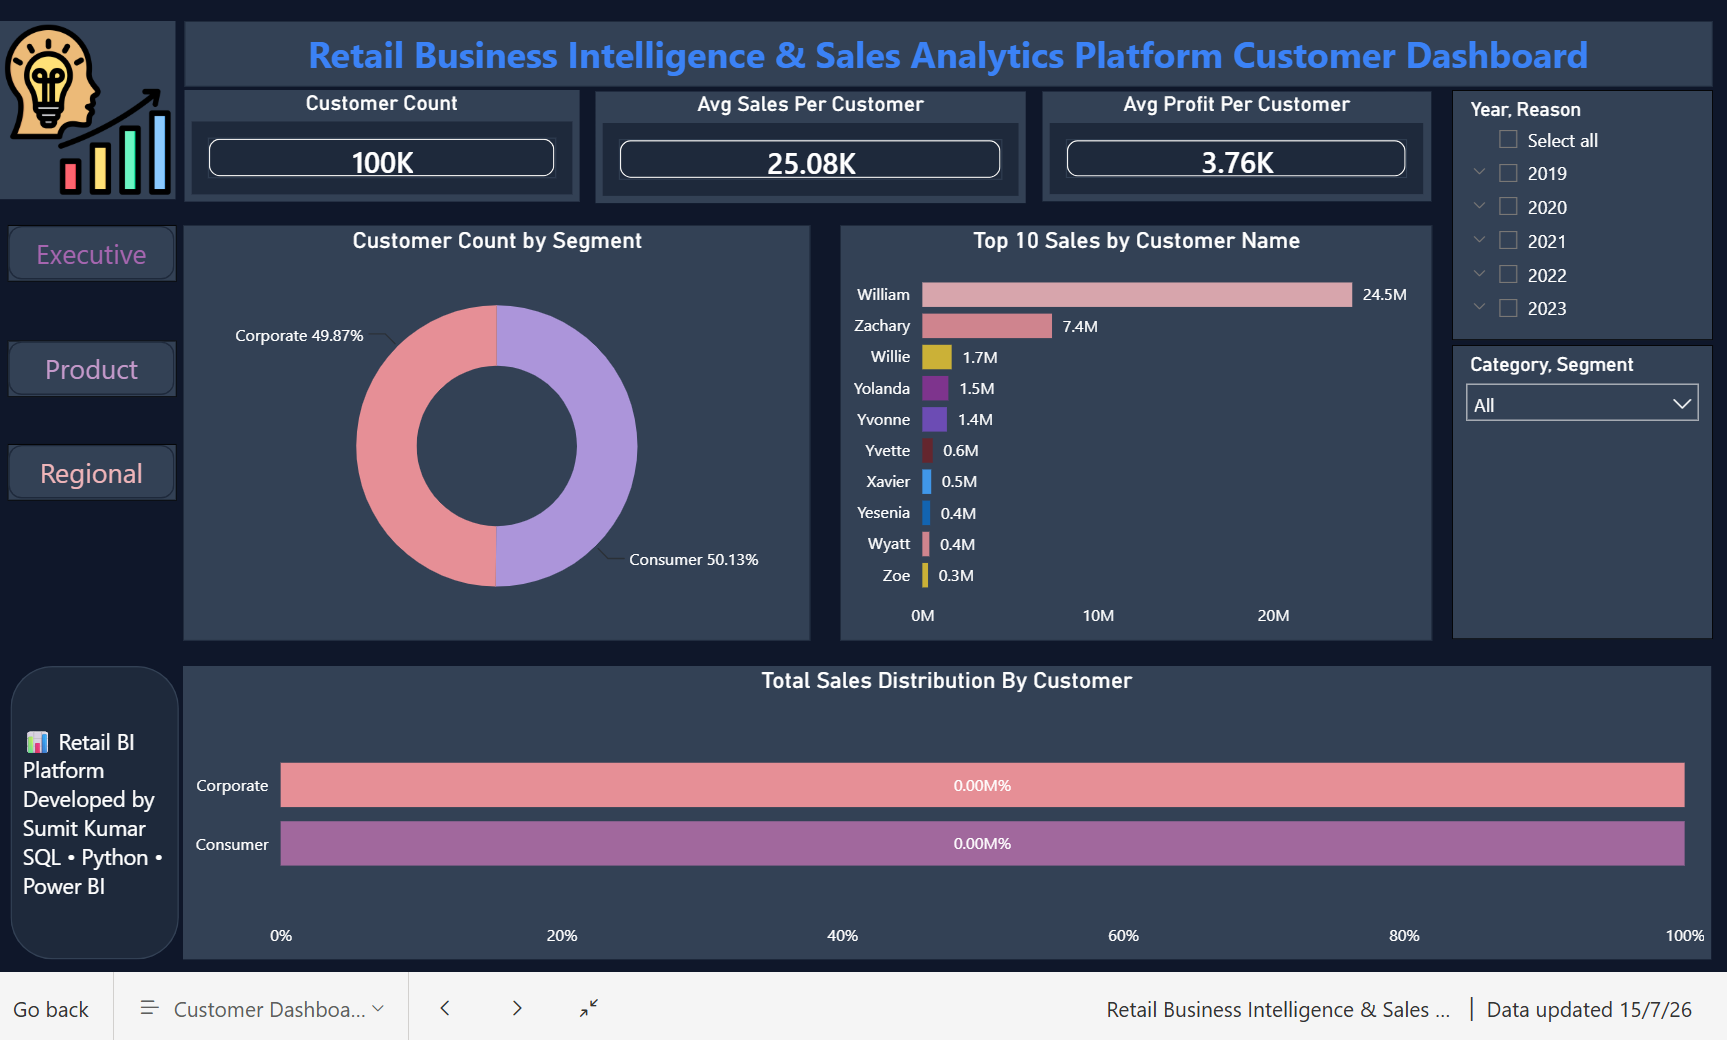

The dashboard page shown, as its layout file describes it:
{"tool":"powerbi","page":{"name":"Customer Dashboard","canvas":[1280,720],"ordinal":1},"visuals":[{"type":"cardVisual","title":"Customer Count","fields":{"Data":["cleaned_data.Customer Count"]},"box":[136.6,66.7,292.8,83],"z":0},{"type":"cardVisual","title":"Avg Profit Per Customer","fields":{"Data":["cleaned_data.Average Profit per Customer"]},"box":[772.6,68.3,287.9,81.3],"z":1000},{"type":"cardVisual","title":"Avg Sales Per Customer","fields":{"Data":["cleaned_data.Average Sales per Customer"]},"box":[440.8,68.3,318.8,83],"z":2000},{"type":"slicer","fields":{"Values":["cleaned_data.Year","cleaned_data.Region"]},"box":[1075,66.7,193.3,185],"z":3000},{"type":"slicer","fields":{"Values":["cleaned_data.Category of Goods","cleaned_data.Segment"]},"box":[1075.1,255.4,193.6,218],"z":4000},{"type":"textbox","box":[136.7,15,1131.7,48.3],"z":5000},{"type":"image","box":[0,15,130,131.7],"z":6000},{"type":"shape","box":[5,251.7,125,41.7],"z":7000},{"type":"shape","box":[5,328.3,125,41.7],"z":8000},{"type":"shape","box":[5,166.7,125,41.7],"z":9000},{"type":"shape","box":[7.6,493.2,124.7,217.3],"z":10000},{"type":"donutChart","fields":{"Category":["cleaned_data.Segment"],"Y":["cleaned_data.Customer Count"]},"box":[136.1,166.3,464.9,308],"z":11000},{"type":"clusteredBarChart","title":"Top 10 Sales by Customer Name","fields":{"Category":["cleaned_data.Customer Name"],"Y":["cleaned_data.Total Sales"]},"box":[621.7,166.3,438.4,308],"z":12000},{"type":"hundredPercentStackedBarChart","title":"Total Sales Distribution By Customer ","fields":{"Category":["cleaned_data.Segment"],"Y":["cleaned_data.Total Sales"]},"box":[136.1,493.2,1132,217.3],"z":13000}]}

Visuals, with their boxes on the page's 1280x720 design canvas (x1, y1, x2, y2). These are canvas units, not pixel positions in the 1727x1040 screenshot, which may show the page scaled, cropped or inside an application window:
"Customer Count" cardVisual: (left=137, top=67, right=429, bottom=150)
"Avg Profit Per Customer" cardVisual: (left=773, top=68, right=1060, bottom=150)
"Avg Sales Per Customer" cardVisual: (left=441, top=68, right=760, bottom=151)
slicer - cleaned_data.Year x cleaned_data.Region: (left=1075, top=67, right=1268, bottom=252)
slicer - cleaned_data.Category of Goods x cleaned_data.Segment: (left=1075, top=255, right=1269, bottom=473)
textbox: (left=137, top=15, right=1268, bottom=63)
image: (left=0, top=15, right=130, bottom=147)
shape: (left=5, top=252, right=130, bottom=293)
shape: (left=5, top=328, right=130, bottom=370)
shape: (left=5, top=167, right=130, bottom=208)
shape: (left=8, top=493, right=132, bottom=710)
donutChart - cleaned_data.Segment x cleaned_data.Customer Count: (left=136, top=166, right=601, bottom=474)
"Top 10 Sales by Customer Name" clusteredBarChart: (left=622, top=166, right=1060, bottom=474)
"Total Sales Distribution By Customer " hundredPercentStackedBarChart: (left=136, top=493, right=1268, bottom=710)
